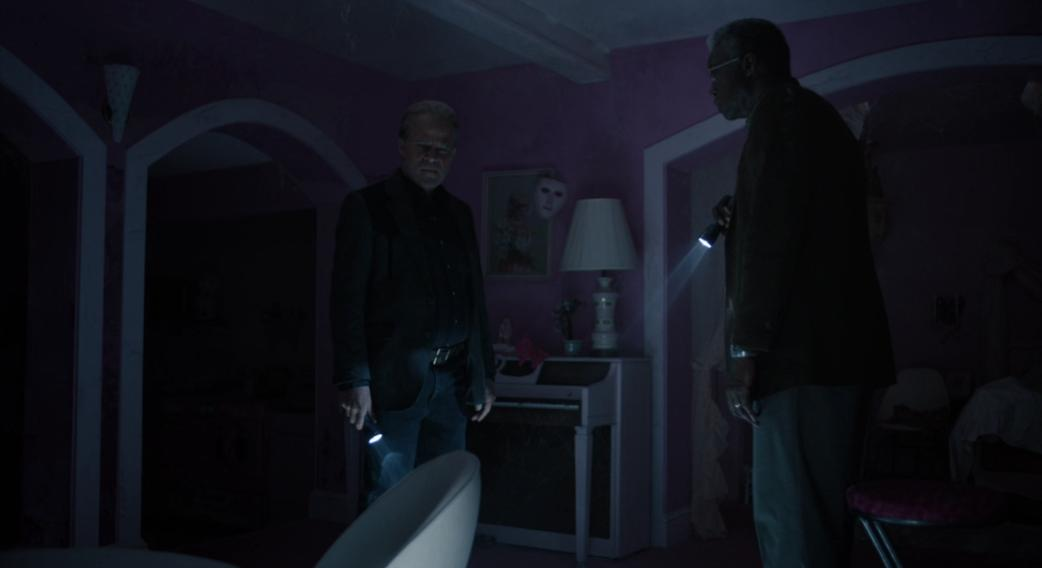person: (652, 18, 893, 562), (322, 95, 510, 505)
